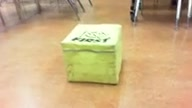cube: (61, 24, 120, 85)
